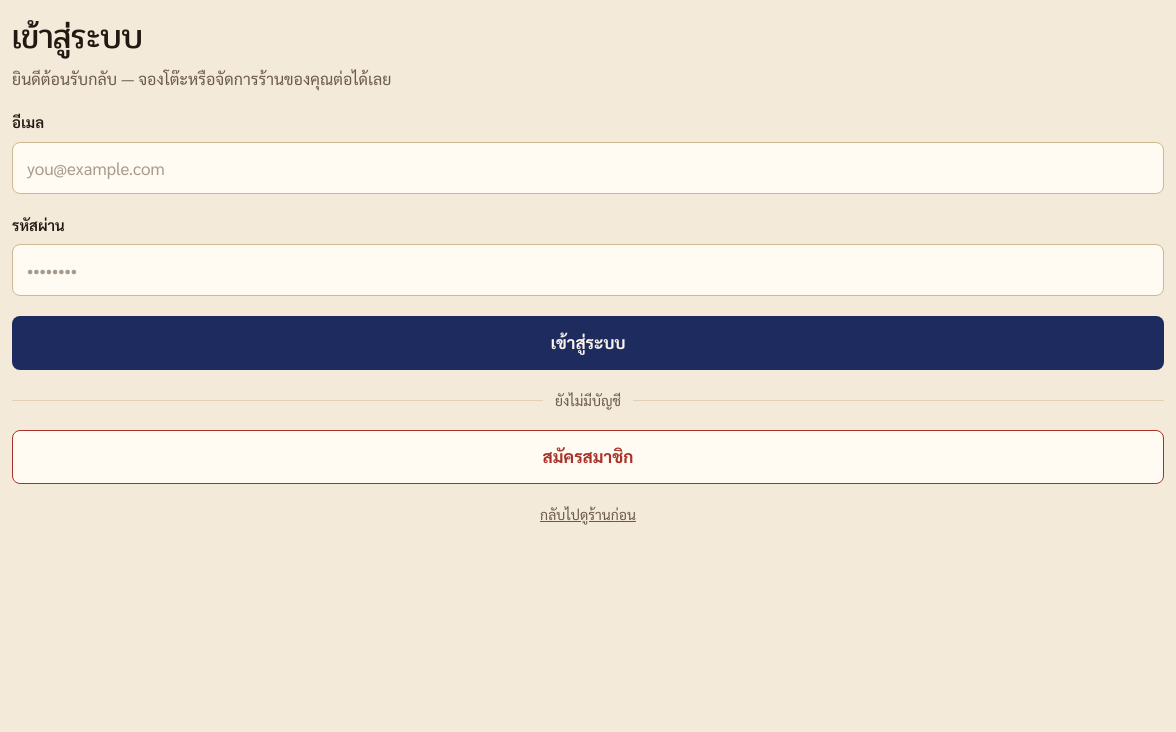
Test case: LoginForm › ตรวจฟอร์มก่อนส่ง (ไม่เรียก signIn)
Type "not-email" into the field labelled "อีเมล". click: (588, 168)
box: [12, 142, 1164, 194]
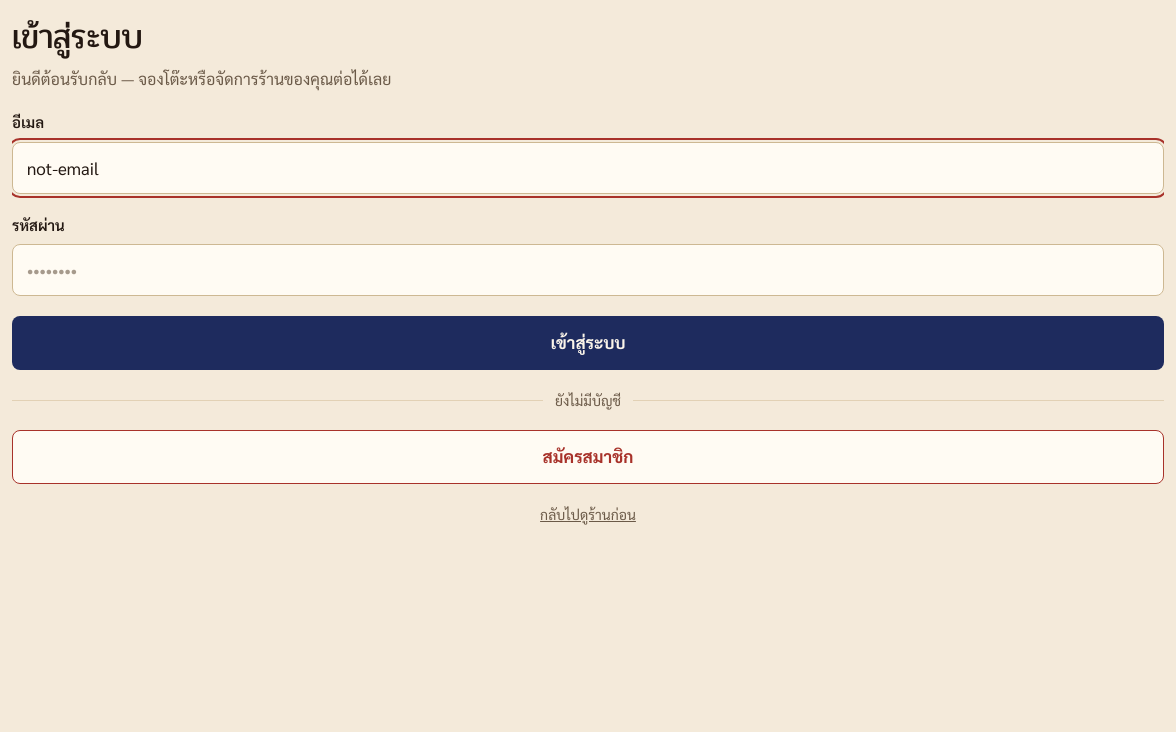
Click the button "เข้าสู่ระบบ". click: (588, 343)
box: [12, 316, 1164, 370]
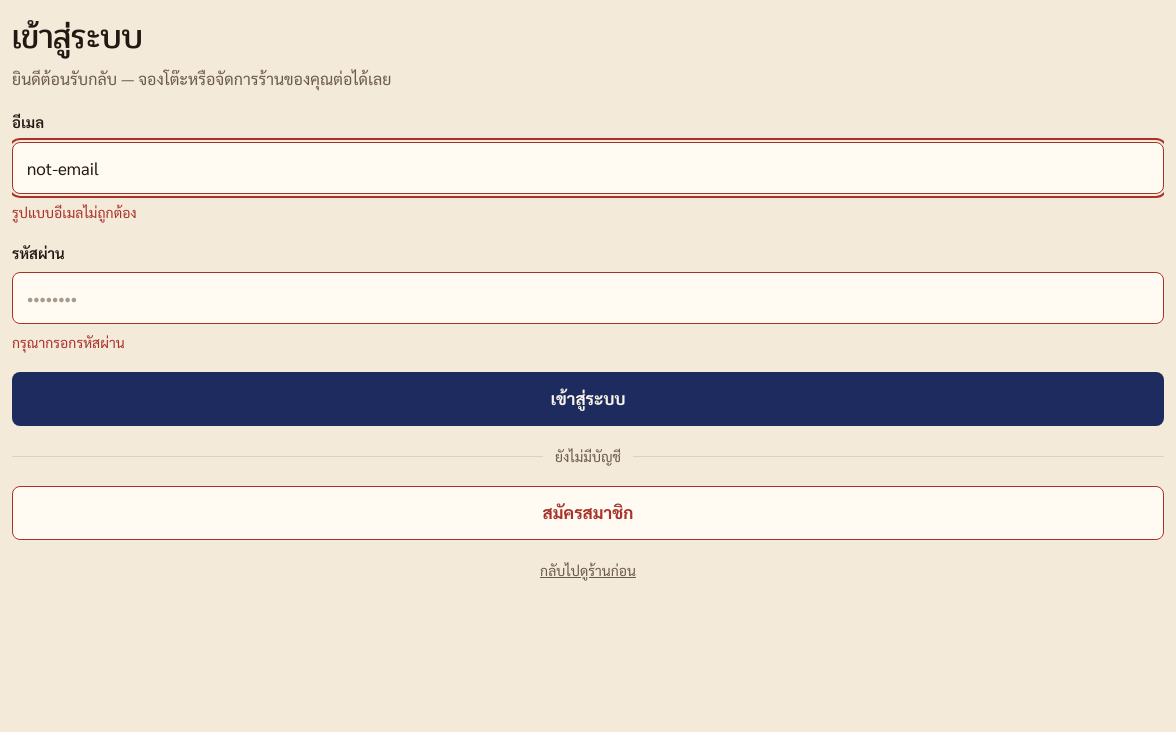
Now the text "รูปแบบอีเมลไม่ถูกต้อง" is shown, box [12, 202, 137, 220]
Now the text "กรุณากรอกรหัสผ่าน" is shown, box [12, 333, 125, 351]
